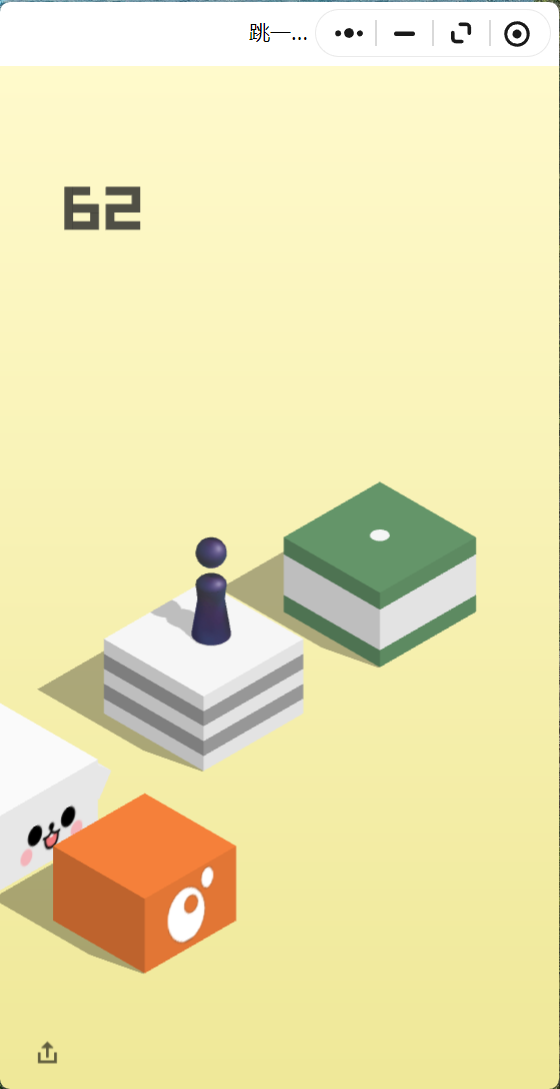piece: (196, 537, 226, 641)
target: (285, 482, 476, 593)
